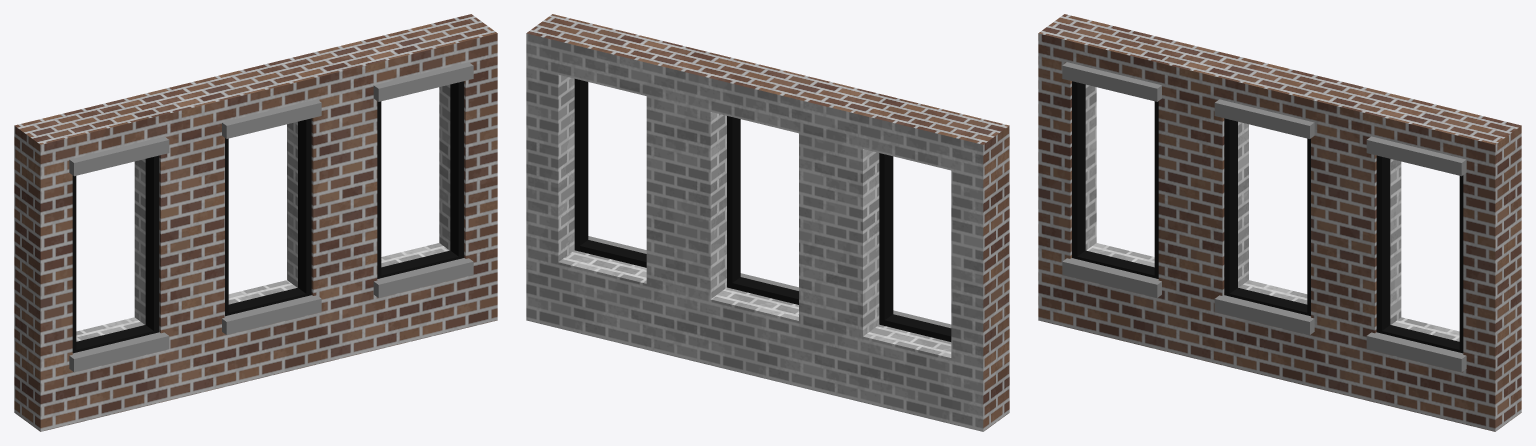
The model's file is Window_Wall_003.FBX.
The picture shows the model from 3 angles, left to right: view 1: azimuth 30°, elevation 25°; view 2: azimuth 150°, elevation 25°; view 3: azimuth 330°, elevation 25°; orthographic projection.
Visible parts, largest first — view 1: Window_Wall_003; view 2: Window_Wall_003; view 3: Window_Wall_003.
Part boxes in pixels (x1,y1,x2,y2): Window_Wall_003: [14, 14, 497, 431]; Window_Wall_003: [526, 14, 1009, 431]; Window_Wall_003: [1038, 14, 1521, 431].
Bounding box in the file's own units: 500 × 58.99 × 300.
